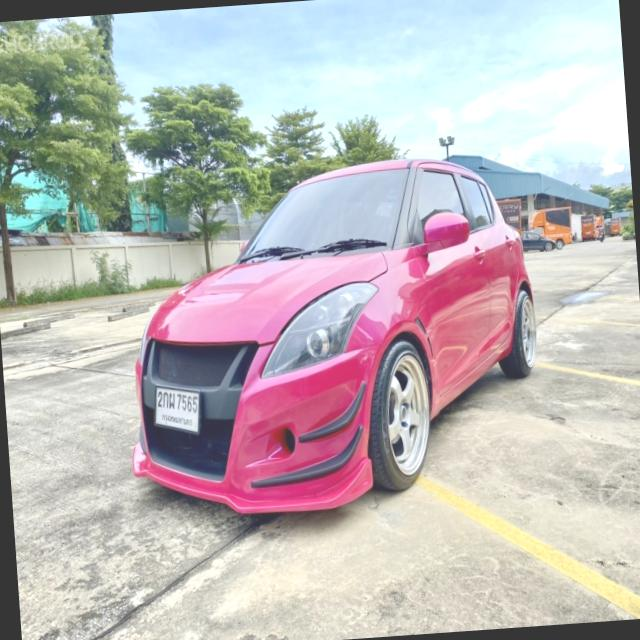license_plate: (153, 381, 205, 438)
